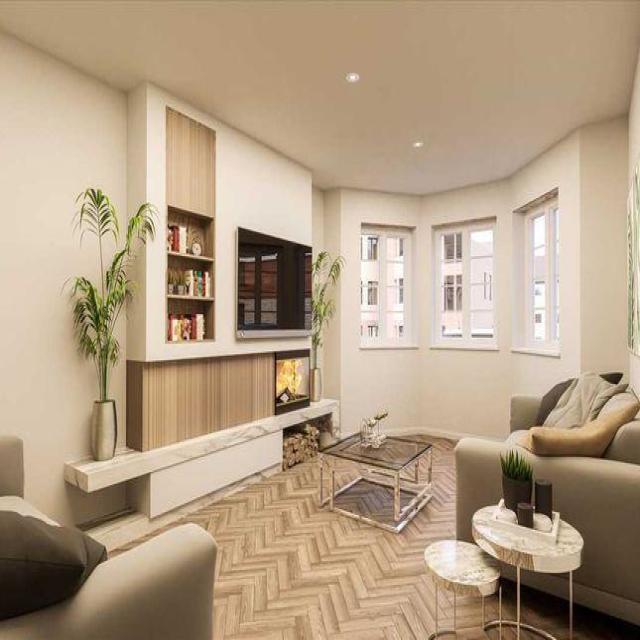Wall: (0, 1, 640, 194), (324, 118, 629, 438), (314, 116, 627, 373), (0, 32, 126, 524), (178, 440, 455, 639), (179, 441, 455, 639), (126, 84, 311, 361), (126, 355, 275, 451), (147, 433, 282, 517), (324, 189, 360, 432), (521, 587, 567, 639), (574, 607, 640, 639), (110, 313, 126, 445), (457, 598, 485, 638), (503, 581, 515, 618), (486, 597, 498, 618), (336, 473, 349, 485)
